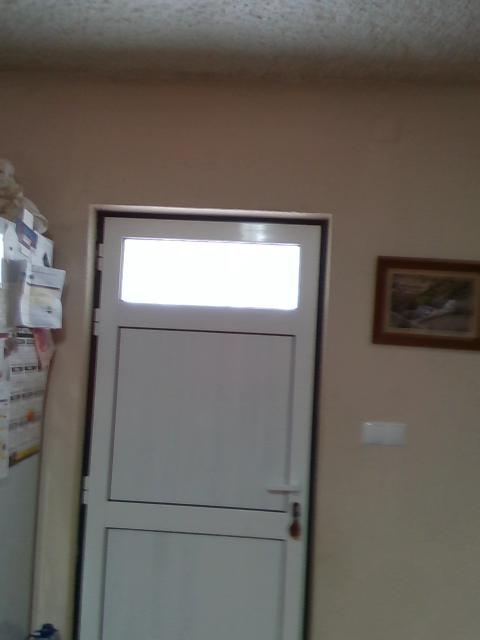door: (75, 211, 324, 639)
